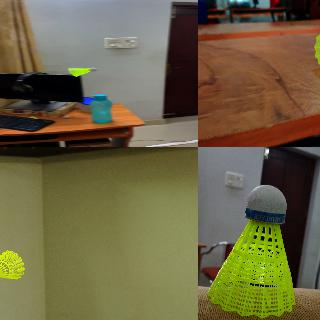shuttlecock: (206, 185, 296, 318), (0, 250, 25, 281), (68, 67, 97, 76)
